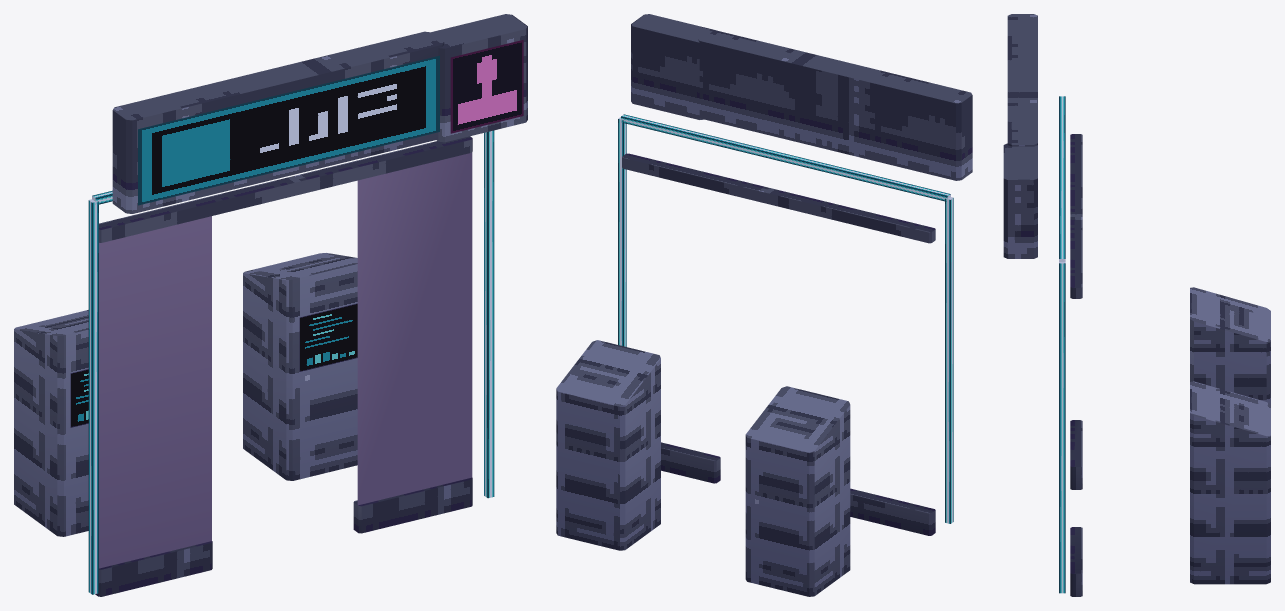
Rendered from cysign.arcade.glb.
The picture shows the model from 3 angles, left to right: view 1: azimuth 30°, elevation 25°; view 2: azimuth 150°, elevation 25°; view 3: azimuth 270°, elevation 25°; orthographic projection. The views are drawn at different scales.
Parts seen in each view (by area): view 1: kit_card_cards, kit_front, kit_chase; view 2: kit_front, kit_chase; view 3: kit_front, kit_chase.
Boxes of the visible parts, box(x1,y1,x2,y2) form: kit_card_cards: box(70, 40, 523, 568); kit_front: box(14, 14, 527, 596); kit_chase: box(88, 130, 494, 594); kit_front: box(556, 14, 972, 596); kit_chase: box(618, 114, 953, 523); kit_front: box(1003, 14, 1270, 596); kit_chase: box(1059, 96, 1065, 593).
Bounding box in the file's own units: 3.89 × 4.64 × 2.67.
Materials: 6 (5 with a texture image).
